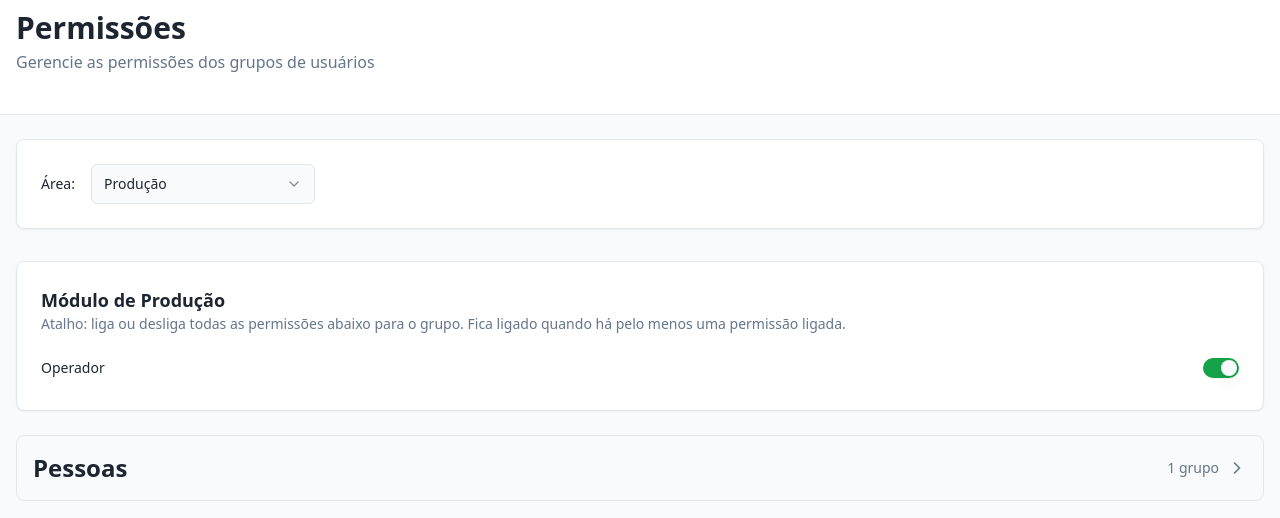
Test: Settings page › dropdown exibe labels PT-BR dos módulos (sem termos em inglês)
What coordinates should you click on to do the following:
click the dropdown
I would click on:
 (203, 184)
Its box is [91, 164, 315, 204].
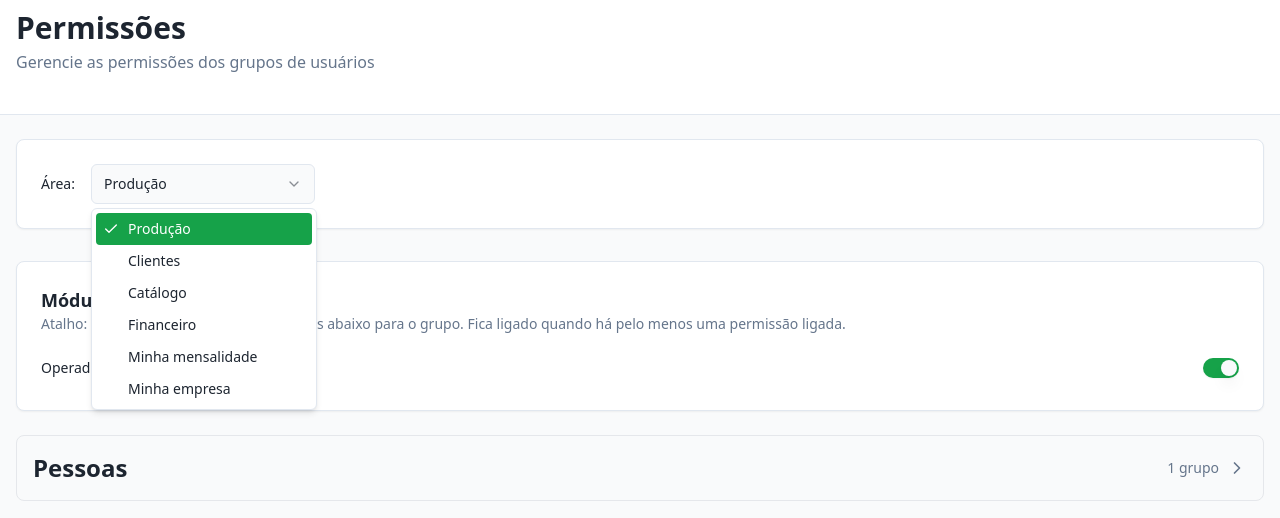
expect the option "Minha empresa" is shown: met, box [128, 379, 231, 398]
expect the option "Minha mensalidade" is shown: met, box [128, 347, 258, 366]
